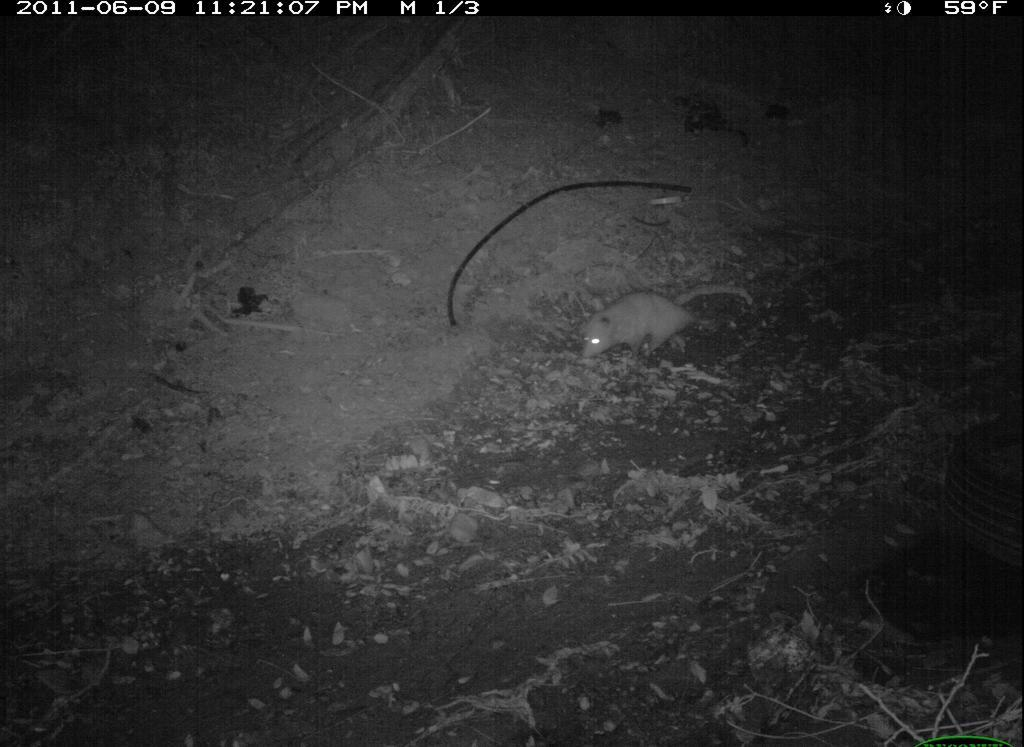opossum: (575, 278, 738, 376)
